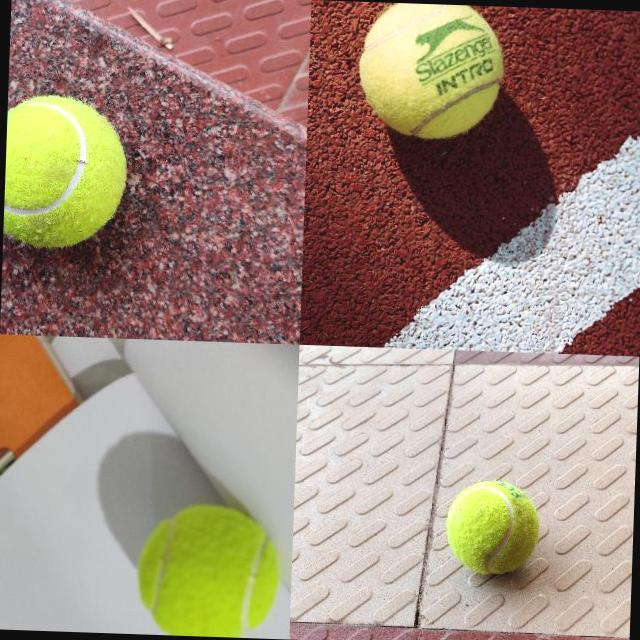tennis-ball: (356, 1, 506, 142), (134, 500, 283, 638), (2, 94, 128, 249), (444, 478, 540, 574)
